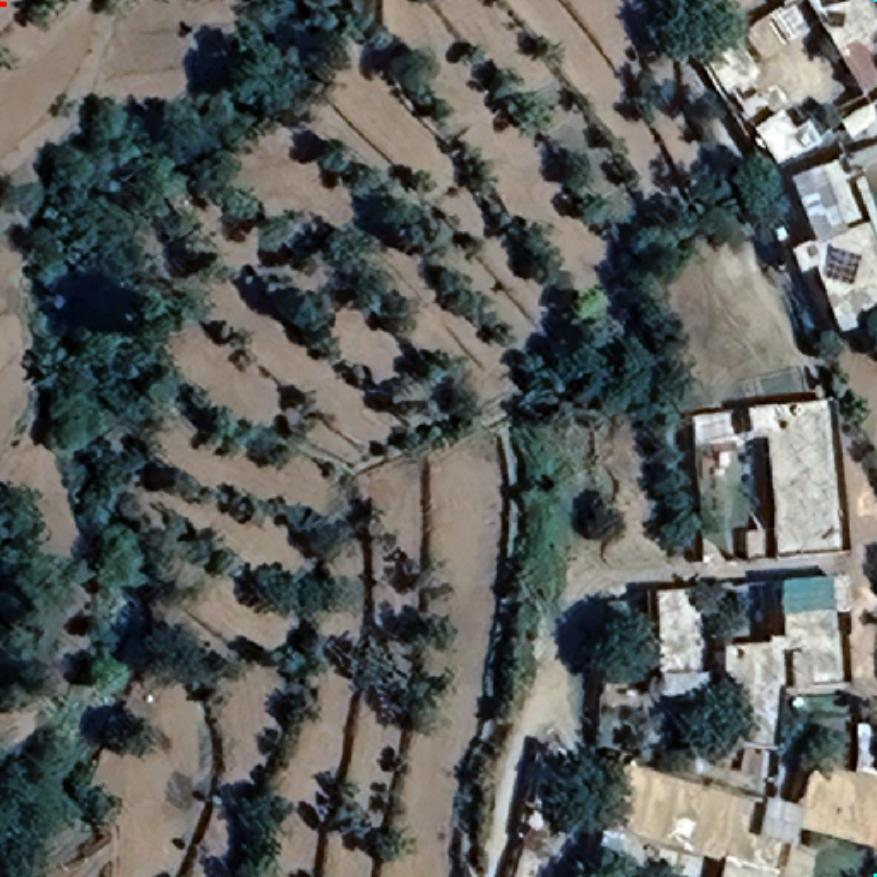Solarpanel: (824, 246, 862, 284)
